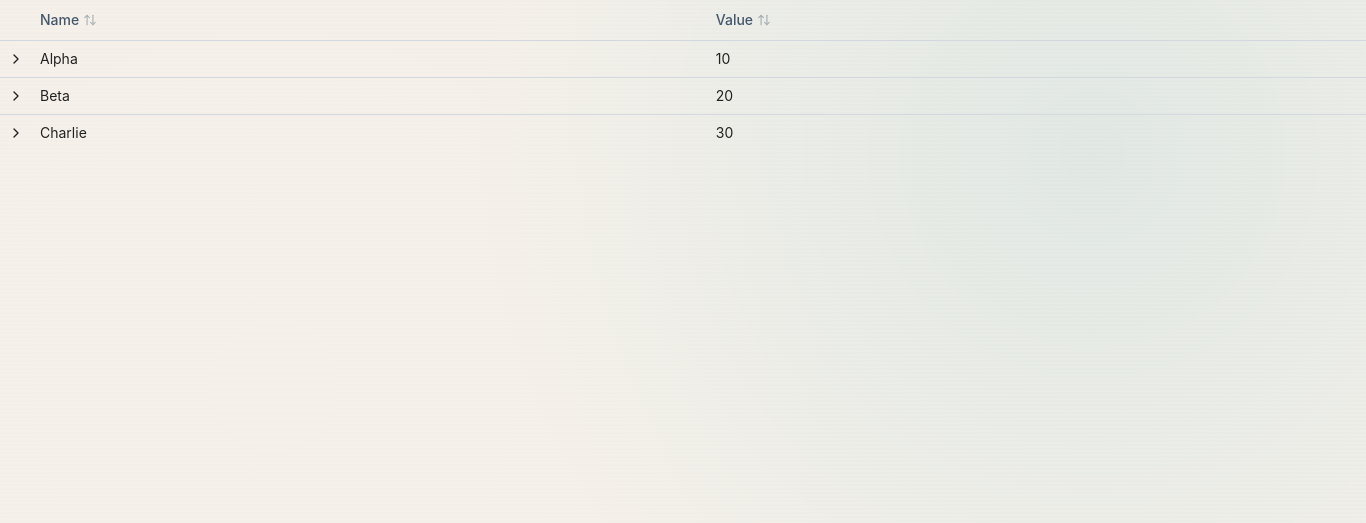
it: DataTable - expandable rows › expands a row when the row itself is clicked
The width and height of the screenshot is (1366, 523).
Click the text "Alpha" at (59, 58), box x1=32 y1=40 x2=708 y2=77
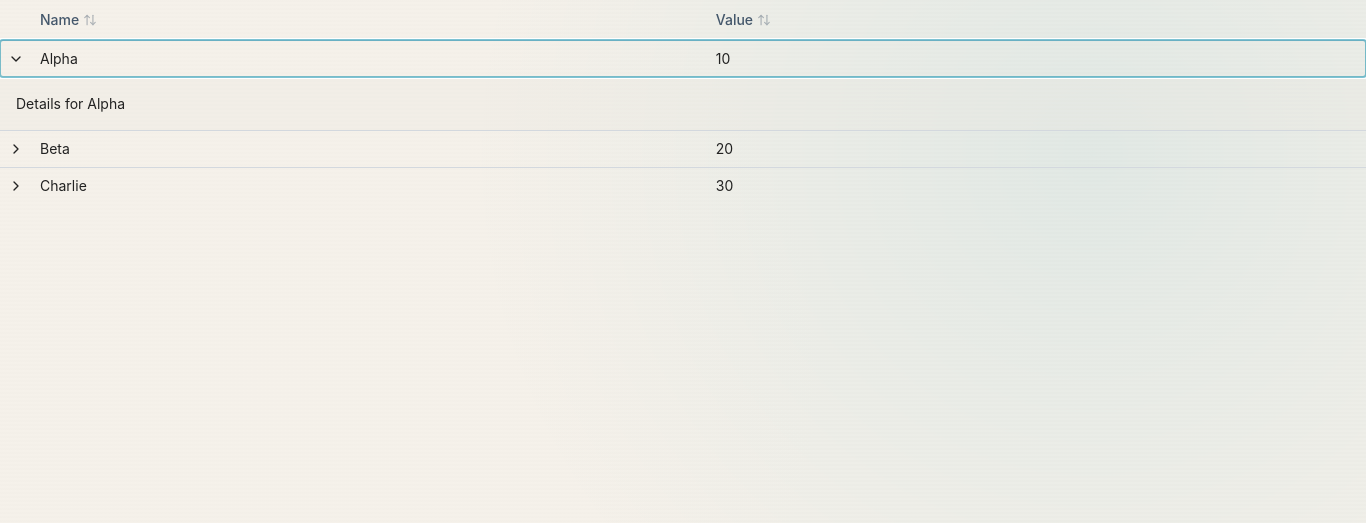
Now the text "Details for Alpha" is shown, box x1=16 y1=94 x2=125 y2=112
